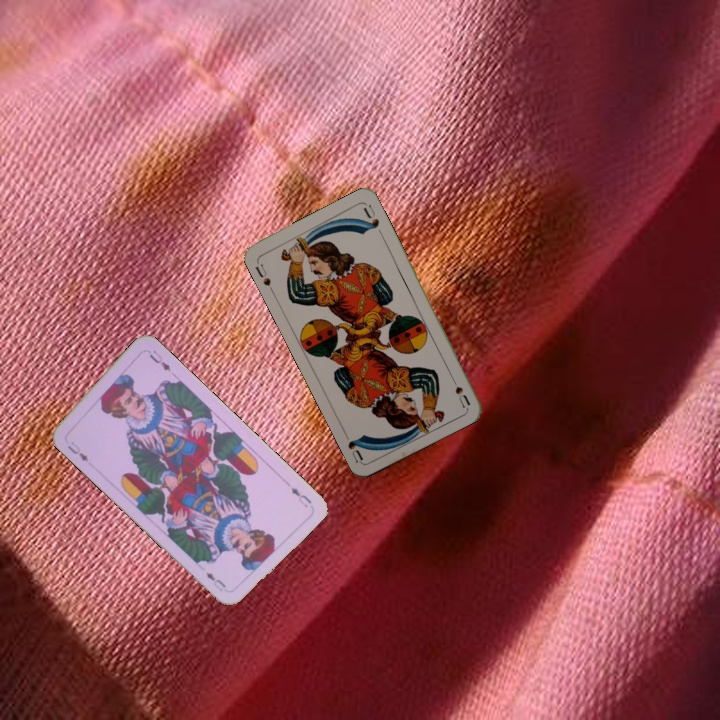EU: (63, 437, 91, 465), (287, 482, 314, 510)
SU: (446, 370, 473, 410), (251, 257, 276, 296)
